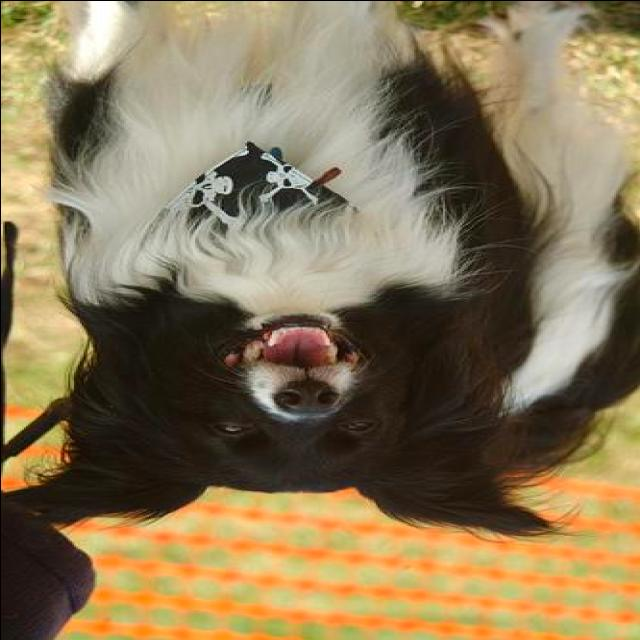papillon: (4, 2, 640, 548)
